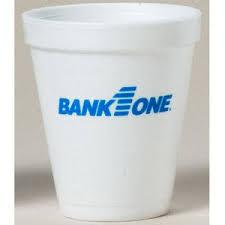Plastic cup: (28, 5, 197, 223)
